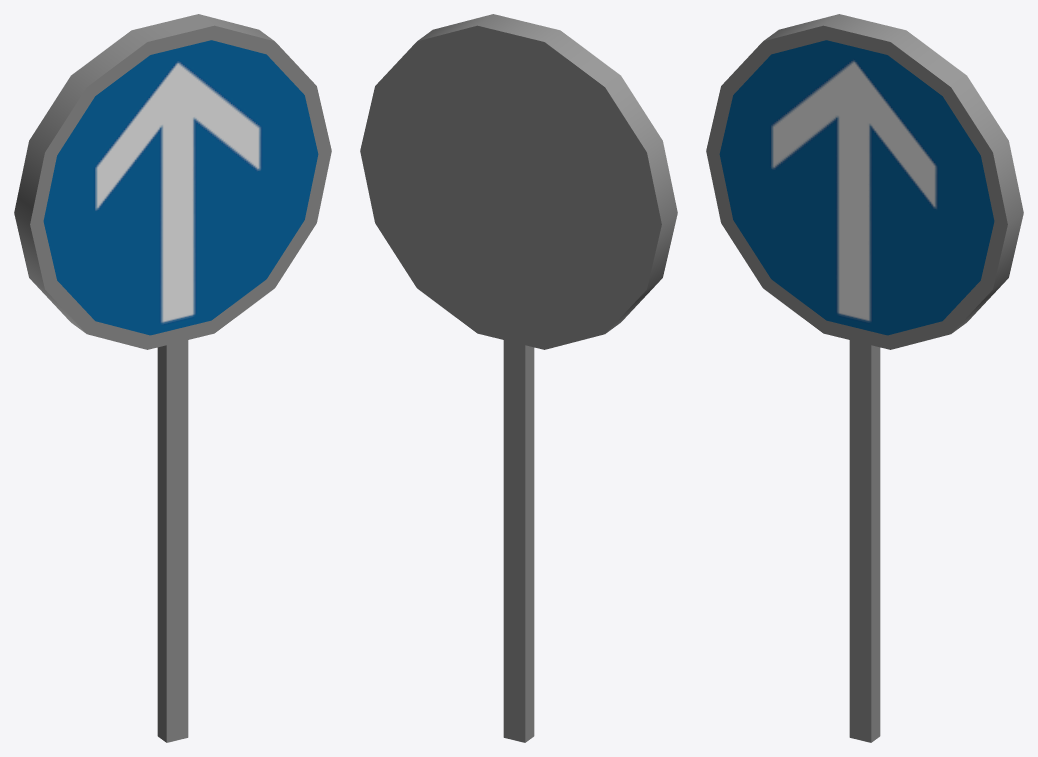
Rendered from go_sign.FBX.
The picture shows the model from 3 angles, left to right: view 1: azimuth 30°, elevation 25°; view 2: azimuth 150°, elevation 25°; view 3: azimuth 330°, elevation 25°; orthographic projection.
Visible parts, largest first — view 1: go_sign; view 2: go_sign; view 3: go_sign.
Boxes of the visible parts, box(x1,y1,x2,y2) form: go_sign: box(14, 14, 331, 742); go_sign: box(360, 14, 677, 742); go_sign: box(706, 14, 1023, 742).
Bounding box in the file's own units: 63.63 × 143 × 5.82.
